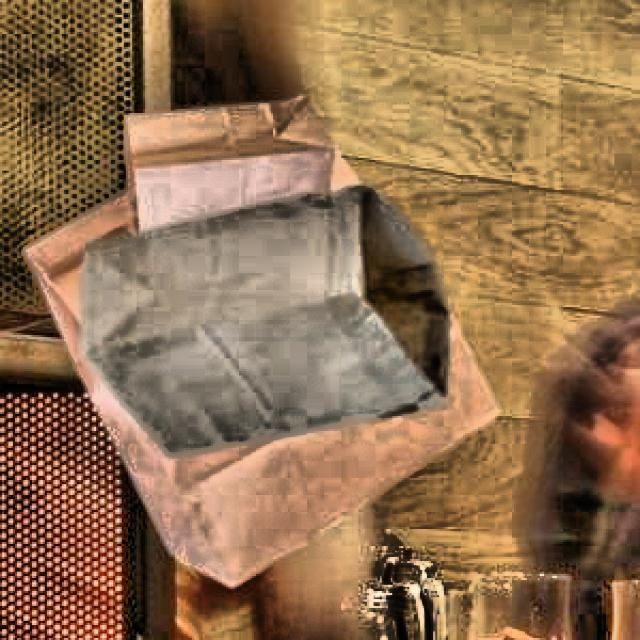Paper-bag: (15, 140, 511, 596), (61, 185, 463, 443), (112, 105, 350, 312)
